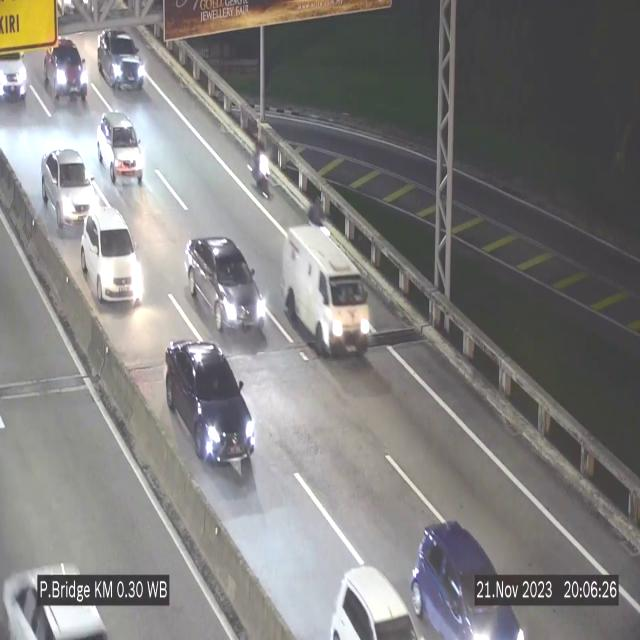Car: (412, 519, 532, 640), (166, 339, 256, 481), (281, 224, 373, 356), (0, 543, 112, 640), (185, 234, 271, 341), (321, 559, 432, 640), (80, 197, 144, 303), (41, 145, 99, 233), (97, 112, 143, 188), (43, 38, 90, 112), (97, 30, 145, 90), (0, 42, 32, 108)
Motorcycle: (251, 128, 275, 209)
